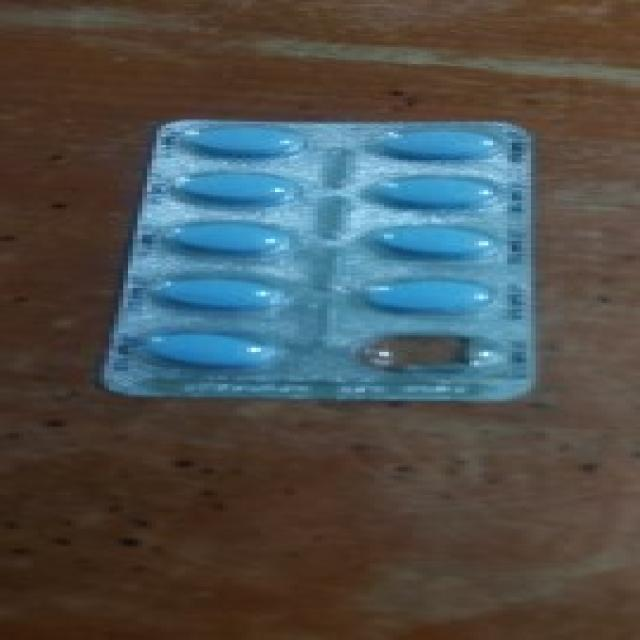Cacat: (113, 119, 536, 407)
Kemasan: (356, 326, 512, 384)
